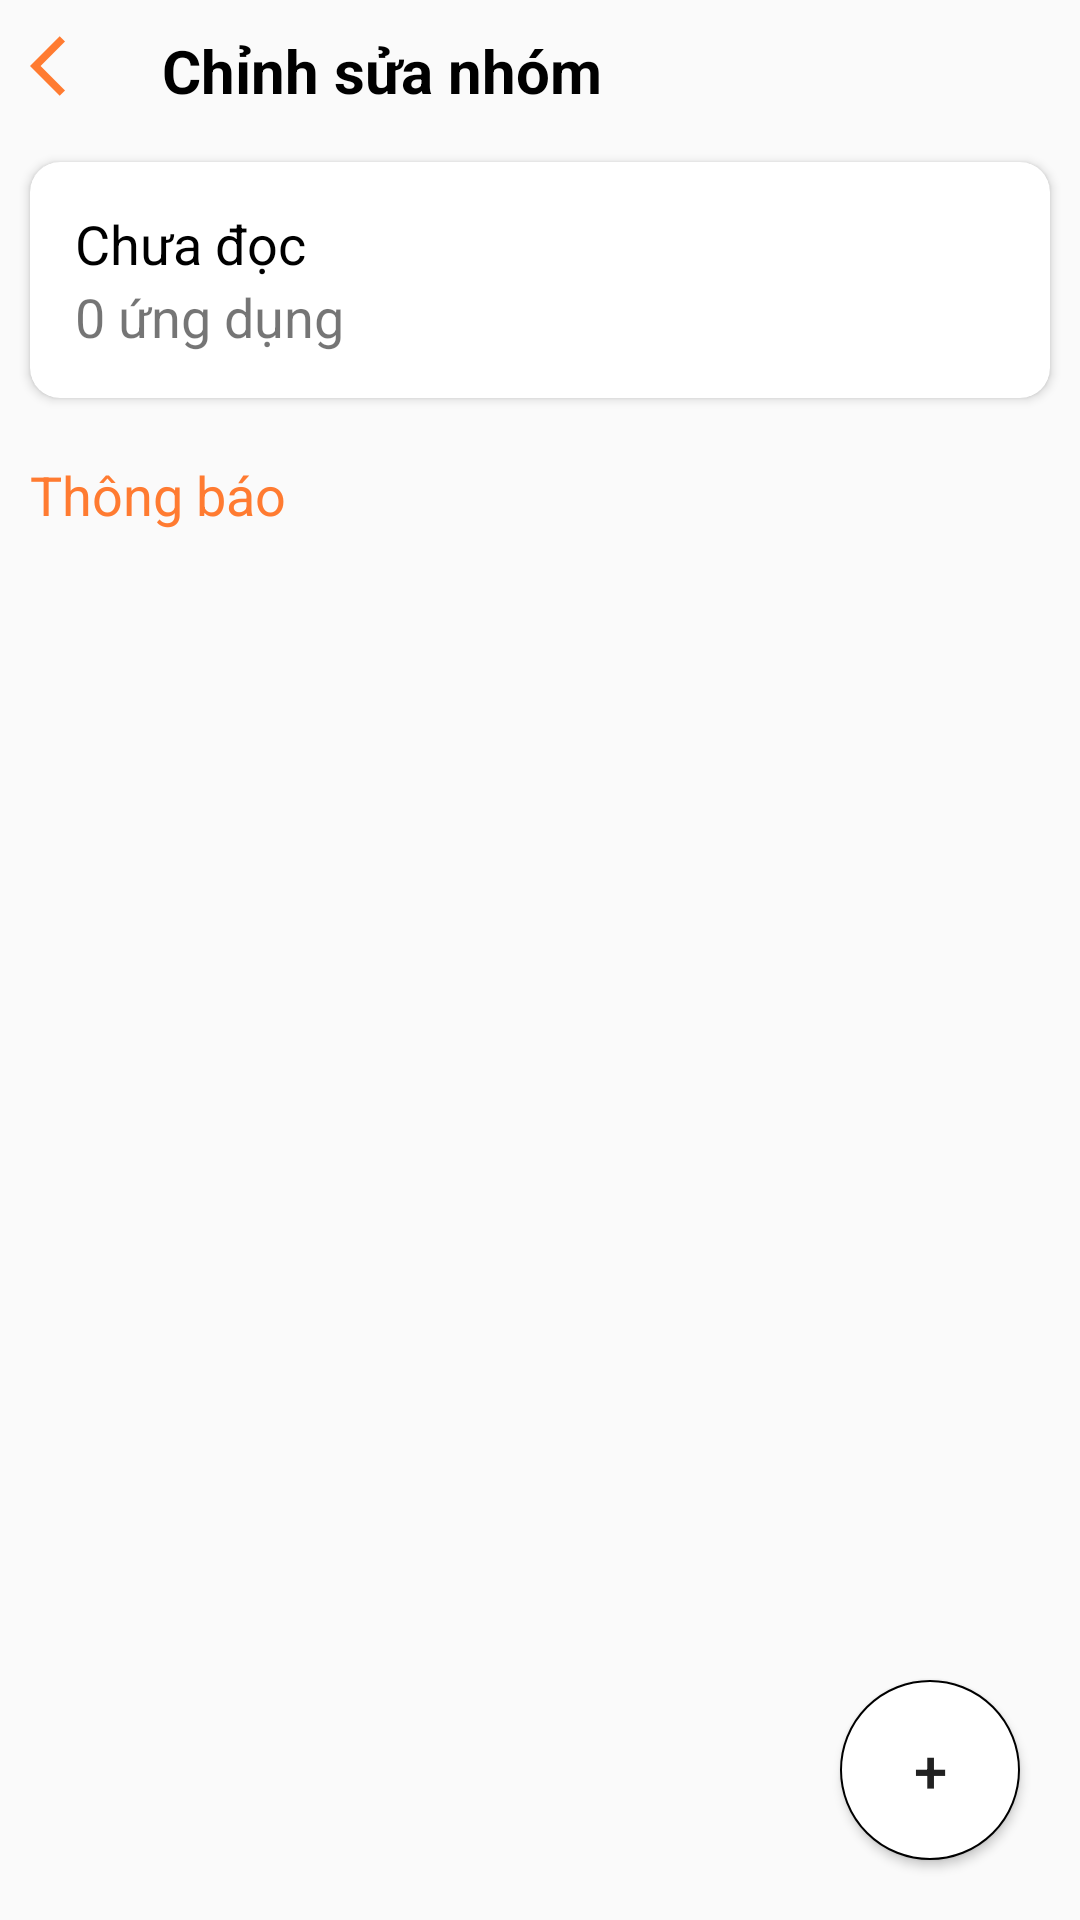

Named icons in this screenshot (1080x1920) and their centers, [x,y]:
back: [47,66]
